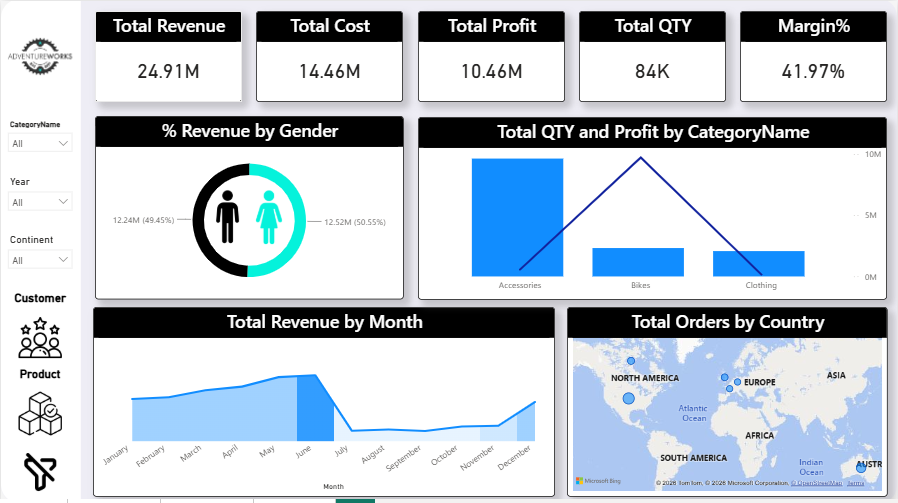

This screenshot's page, from the dashboard's own definition file:
{"tool":"powerbi","page":{"name":"OverView","canvas":[1280,720],"ordinal":1},"visuals":[{"type":"card","title":"Total Revenue","fields":{"Values":["Calculation.Total Revenue"]},"box":[134.6,14.2,209.8,130.4],"z":0},{"type":"donutChart","title":"% Revenue by Gender","fields":{"Category":["Dim_Customer.Gender"],"Y":["Calculation.Total Revenue"]},"box":[134.6,164.4,440.8,262.2],"z":0,"group":"g1"},{"type":"card","title":"Total Cost","fields":{"Values":["Calculation.Total Cost"]},"box":[365,14.2,209.8,130.4],"z":1000},{"type":"image","box":[276,256.9,96.1,101.3],"z":1000,"group":"g1"},{"type":"card","title":"Total Profit","fields":{"Values":["Calculation.Profit"]},"box":[595.3,14.2,209.8,130.4],"z":2000},{"type":"image","box":[324.1,260.7,116.7,97.5],"z":2000,"group":"g1"},{"type":"card","title":"Total QTY","fields":{"Values":["Calculation.Total QTY"]},"box":[825.6,14.2,209.8,130.4],"z":3000},{"type":"card","title":"Margin%","fields":{"Values":["Calculation.Margin Profit"]},"box":[1055.9,14.2,209.8,130.4],"z":4000},{"type":"group","id":"g1","title":"Group 1","box":[134.6,164.4,440.8,262.2],"z":5000},{"type":"lineChart","fields":{"Y":["Calculation.Total Revenue"],"Category":["Dim_Calendar.Date.Variation.Date Hierarchy.Month"]},"box":[131.8,436.5,660.5,270.7],"z":6000},{"type":"lineStackedColumnComboChart","fields":{"Category":["Dim_Product.CategoryName"],"Y":["Calculation.Total QTY"],"Y2":["Calculation.Profit"]},"box":[595.3,165.8,670.4,260.8],"z":7000},{"type":"map","fields":{"Category":["Dim_Territory.Country"],"Size":["Calculation.Total Orders"]},"box":[807.9,436.5,457.8,270.7],"z":8000},{"type":"image","box":[0,14.2,112,130.4],"z":9000},{"type":"slicer","fields":{"Values":["Dim_Product.CategoryName"]},"box":[0,164.4,112,65.2],"z":10000},{"type":"slicer","fields":{"Values":["Dim_Calendar.Date.Variation.Date Hierarchy.Year"]},"box":[0,243.8,112,65.2],"z":11000},{"type":"slicer","fields":{"Values":["Dim_Territory.Continent"]},"box":[0,327.4,112,65.2],"z":12000},{"type":"image","title":"Customer","box":[0,413.9,112,97.8],"z":13000},{"type":"image","title":"Product","box":[0,523,112,97.8],"z":14000},{"type":"image","title":"Product","box":[5.7,646.3,100.6,60.9],"z":15000}]}

Visuals, with their boxes on the page's 1280x720 design canvas (x1, y1, x2, y2). These are canvas units, not pixel positions in the 898x503 screenshot, which may show the page scaled, cropped or inside an application window:
"Total Revenue" card: select_region(135, 14, 344, 145)
"% Revenue by Gender" donutChart: select_region(135, 164, 575, 427)
"Total Cost" card: select_region(365, 14, 575, 145)
image: select_region(276, 257, 372, 358)
"Total Profit" card: select_region(595, 14, 805, 145)
image: select_region(324, 261, 441, 358)
"Total QTY" card: select_region(826, 14, 1035, 145)
"Margin%" card: select_region(1056, 14, 1266, 145)
"Group 1" group: select_region(135, 164, 575, 427)
lineChart - Calculation.Total Revenue x Dim_Calendar.Date.Variation.Date Hierarchy.Month: select_region(132, 436, 792, 707)
lineStackedColumnComboChart - Dim_Product.CategoryName x Calculation.Total QTY: select_region(595, 166, 1266, 427)
map - Dim_Territory.Country x Calculation.Total Orders: select_region(808, 436, 1266, 707)
image: select_region(0, 14, 112, 145)
slicer - Dim_Product.CategoryName: select_region(0, 164, 112, 230)
slicer - Dim_Calendar.Date.Variation.Date Hierarchy.Year: select_region(0, 244, 112, 309)
slicer - Dim_Territory.Continent: select_region(0, 327, 112, 393)
"Customer" image: select_region(0, 414, 112, 512)
"Product" image: select_region(0, 523, 112, 621)
"Product" image: select_region(6, 646, 106, 707)
